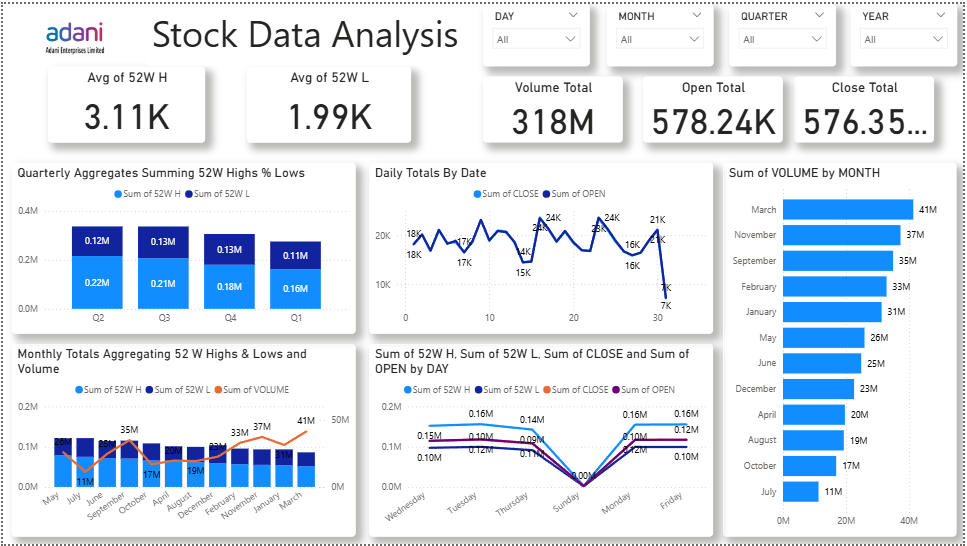

This screenshot's page, from the dashboard's own definition file:
{"tool":"powerbi","page":{"name":"Page 1","canvas":[1280,720],"ordinal":0},"visuals":[{"type":"slicer","fields":{"Values":["Quote-Equity-ADANIENT-EQ-04-04-2025-04-04-2026.DAY"]},"box":[639.5,0,142,83],"z":0},{"type":"slicer","fields":{"Values":["Quote-Equity-ADANIENT-EQ-04-04-2025-04-04-2026.MONTH"]},"box":[805.5,0,142,83],"z":1000},{"type":"slicer","fields":{"Values":["Quote-Equity-ADANIENT-EQ-04-04-2025-04-04-2026.QUARTER"]},"box":[968.8,0,142,83],"z":2000},{"type":"slicer","fields":{"Values":["Quote-Equity-ADANIENT-EQ-04-04-2025-04-04-2026.YEAR"]},"box":[1129.3,0,142,83],"z":3000},{"type":"card","title":"Avg of 52W H","fields":{"Values":["Avg(Quote-Equity-ADANIENT-EQ-04-04-2025-04-04-2026.52W H)"]},"box":[60.4,83.7,209.9,101.5],"z":4000},{"type":"card","title":"Avg of 52W L","fields":{"Values":["Avg(Quote-Equity-ADANIENT-EQ-04-04-2025-04-04-2026.52W L)"]},"box":[325.2,83.7,219.6,101.5],"z":5000},{"type":"card","title":"Close Total","fields":{"Values":["Sum(Quote-Equity-ADANIENT-EQ-04-04-2025-04-04-2026.CLOSE)"]},"box":[1055.2,97.4,186.6,87.8],"z":6000},{"type":"card","title":"Open Total","fields":{"Values":["Sum(Quote-Equity-ADANIENT-EQ-04-04-2025-04-04-2026.OPEN)"]},"box":[853.5,97.4,186.6,87.8],"z":7000},{"type":"card","title":"Volume  Total","fields":{"Values":["Sum(Quote-Equity-ADANIENT-EQ-04-04-2025-04-04-2026.VOLUME)"]},"box":[639.5,97.4,186.6,87.8],"z":8000},{"type":"columnChart","title":"Quarterly Aggregates Summing 52W Highs % Lows ","fields":{"Y":["Sum(Quote-Equity-ADANIENT-EQ-04-04-2025-04-04-2026.52W H)","Sum(Quote-Equity-ADANIENT-EQ-04-04-2025-04-04-2026.52W L)"],"Category":["Quote-Equity-ADANIENT-EQ-04-04-2025-04-04-2026.QUARTER"]},"box":[12.3,211.3,458.3,227.8],"z":9000},{"type":"lineStackedColumnComboChart","title":"Monthly Totals Aggregating 52 W Highs & Lows and Volume","fields":{"Y":["Sum(Quote-Equity-ADANIENT-EQ-04-04-2025-04-04-2026.52W H)","Sum(Quote-Equity-ADANIENT-EQ-04-04-2025-04-04-2026.52W L)"],"Category":["Quote-Equity-ADANIENT-EQ-04-04-2025-04-04-2026.MONTH"],"Y2":["Sum(Quote-Equity-ADANIENT-EQ-04-04-2025-04-04-2026.VOLUME)"]},"box":[12.3,452.8,458.3,256.6],"z":10000},{"type":"lineChart","title":"Daily Totals By Date","fields":{"Y":["Sum(Quote-Equity-ADANIENT-EQ-04-04-2025-04-04-2026.CLOSE)","Sum(Quote-Equity-ADANIENT-EQ-04-04-2025-04-04-2026.OPEN)"],"Category":["Quote-Equity-ADANIENT-EQ-04-04-2025-04-04-2026.DATE.Variation.Date Hierarchy.Day"]},"box":[488.5,211.3,458.3,227.8],"z":11000},{"type":"lineChart","fields":{"Y":["Sum(Quote-Equity-ADANIENT-EQ-04-04-2025-04-04-2026.52W H)","Sum(Quote-Equity-ADANIENT-EQ-04-04-2025-04-04-2026.52W L)","Sum(Quote-Equity-ADANIENT-EQ-04-04-2025-04-04-2026.CLOSE)","Sum(Quote-Equity-ADANIENT-EQ-04-04-2025-04-04-2026.OPEN)"],"Category":["Quote-Equity-ADANIENT-EQ-04-04-2025-04-04-2026.DAY"]},"box":[488.5,452.8,458.3,256.6],"z":12000},{"type":"clusteredBarChart","fields":{"Category":["Quote-Equity-ADANIENT-EQ-04-04-2025-04-04-2026.MONTH"],"Y":["Sum(Quote-Equity-ADANIENT-EQ-04-04-2025-04-04-2026.VOLUME)"]},"box":[959.2,211.3,311.5,498.1],"z":13000},{"type":"image","box":[0,0,193.5,82.3],"z":14000},{"type":"textbox","box":[193.5,0,424,82.3],"z":15000}]}

Visuals, with their boxes in screenshot pixels (x1, y1, x2, y2), scaled from the page's 1280x720 canvas onto the 967x546 screenshot:
slicer - Quote-Equity-ADANIENT-EQ-04-04-2025-04-04-2026.DAY: (x1=483, y1=0, x2=590, y2=63)
slicer - Quote-Equity-ADANIENT-EQ-04-04-2025-04-04-2026.MONTH: (x1=609, y1=0, x2=716, y2=63)
slicer - Quote-Equity-ADANIENT-EQ-04-04-2025-04-04-2026.QUARTER: (x1=732, y1=0, x2=839, y2=63)
slicer - Quote-Equity-ADANIENT-EQ-04-04-2025-04-04-2026.YEAR: (x1=853, y1=0, x2=960, y2=63)
"Avg of 52W H" card: (x1=46, y1=63, x2=204, y2=140)
"Avg of 52W L" card: (x1=246, y1=63, x2=412, y2=140)
"Close Total" card: (x1=797, y1=74, x2=938, y2=140)
"Open Total" card: (x1=645, y1=74, x2=786, y2=140)
"Volume  Total" card: (x1=483, y1=74, x2=624, y2=140)
"Quarterly Aggregates Summing 52W Highs % Lows " columnChart: (x1=9, y1=160, x2=356, y2=333)
"Monthly Totals Aggregating 52 W Highs & Lows and Volume" lineStackedColumnComboChart: (x1=9, y1=343, x2=356, y2=538)
"Daily Totals By Date" lineChart: (x1=369, y1=160, x2=715, y2=333)
lineChart - Sum(Quote-Equity-ADANIENT-EQ-04-04-2025-04-04-2026.52W H) x Sum(Quote-Equity-ADANIENT-EQ-04-04-2025-04-04-2026.52W L): (x1=369, y1=343, x2=715, y2=538)
clusteredBarChart - Quote-Equity-ADANIENT-EQ-04-04-2025-04-04-2026.MONTH x Sum(Quote-Equity-ADANIENT-EQ-04-04-2025-04-04-2026.VOLUME): (x1=725, y1=160, x2=960, y2=538)
image: (x1=0, y1=0, x2=146, y2=62)
textbox: (x1=146, y1=0, x2=467, y2=62)
